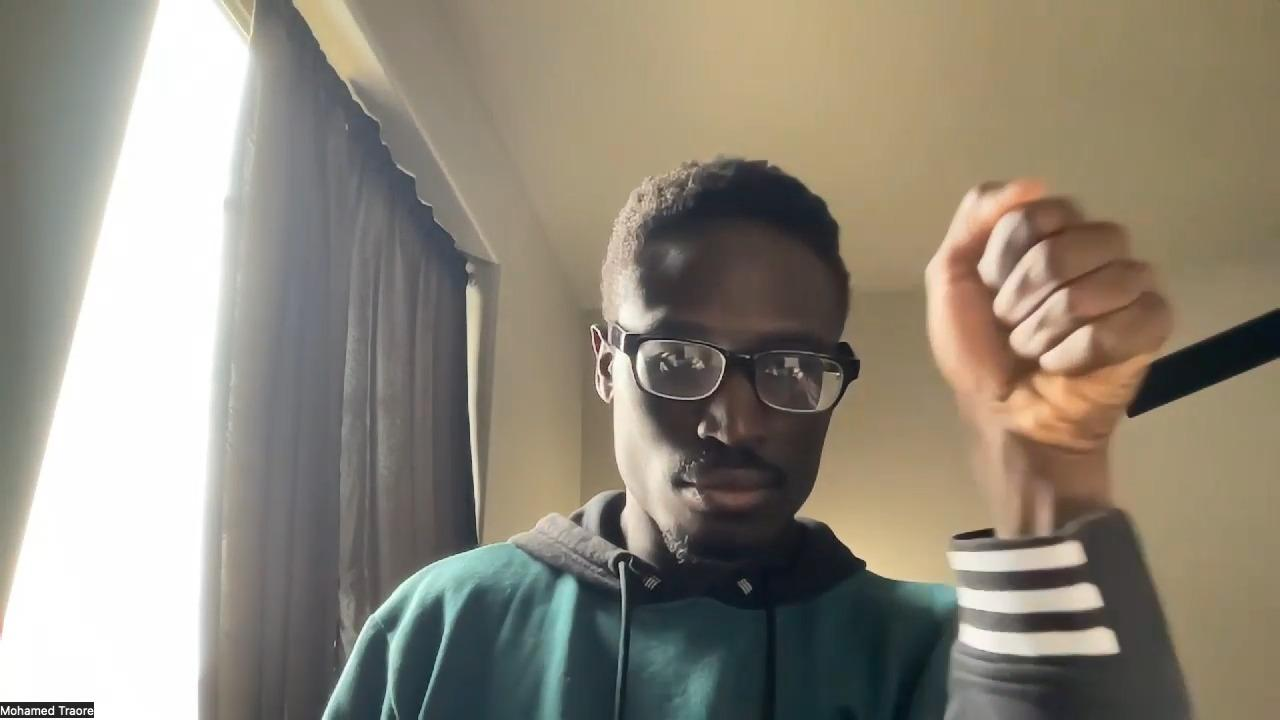Rock: (927, 173, 1173, 455)
